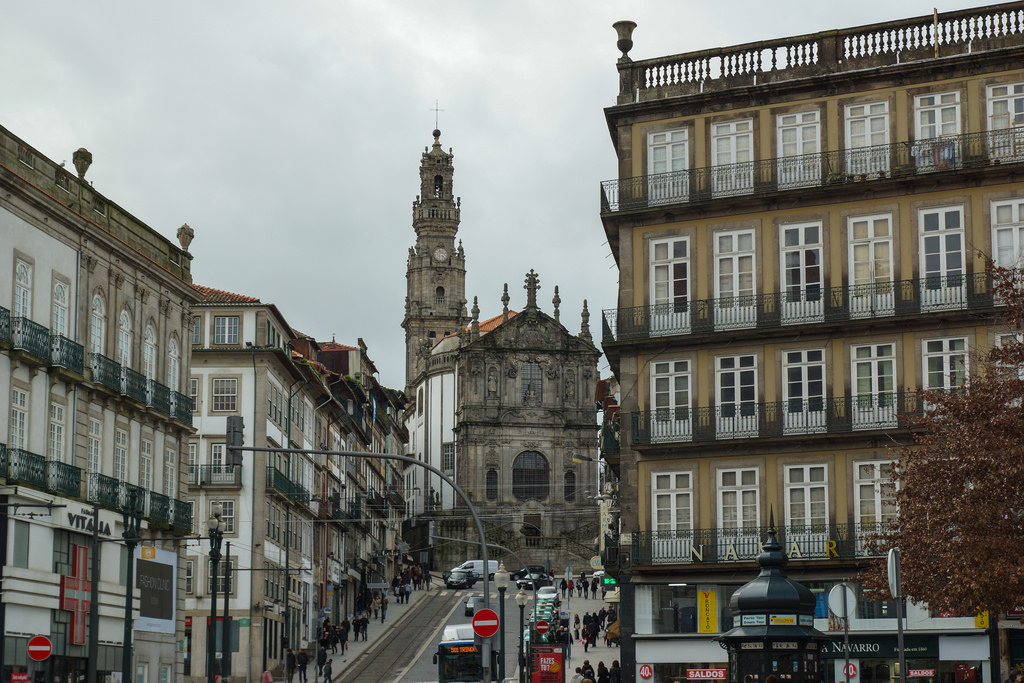clerigos: (399, 101, 469, 396)
